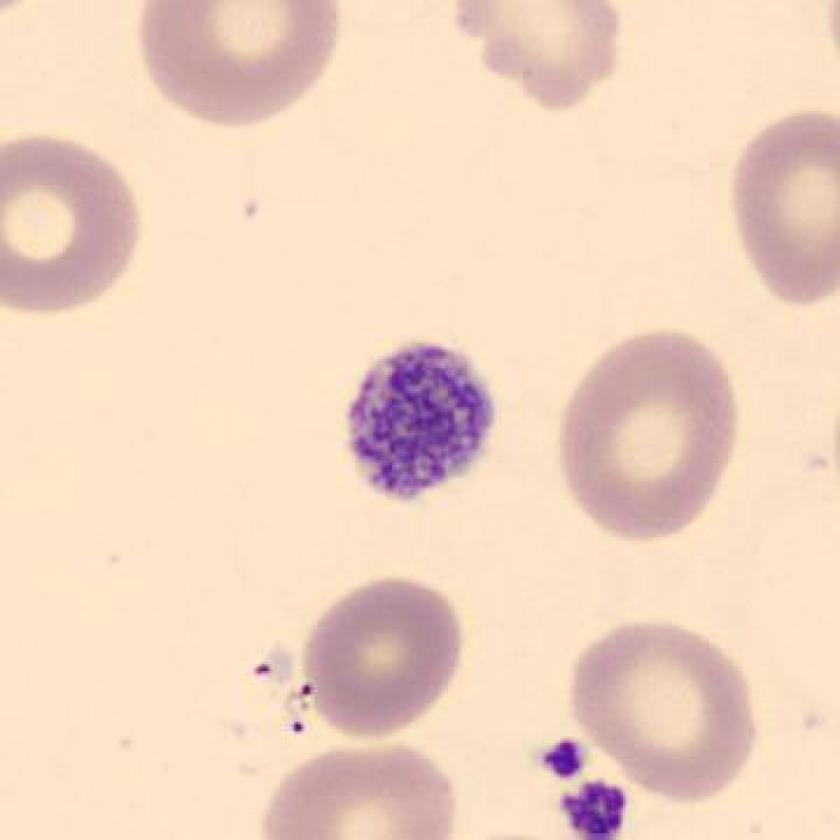platelets: (332, 330, 510, 510), (554, 776, 640, 840), (533, 730, 598, 792)
